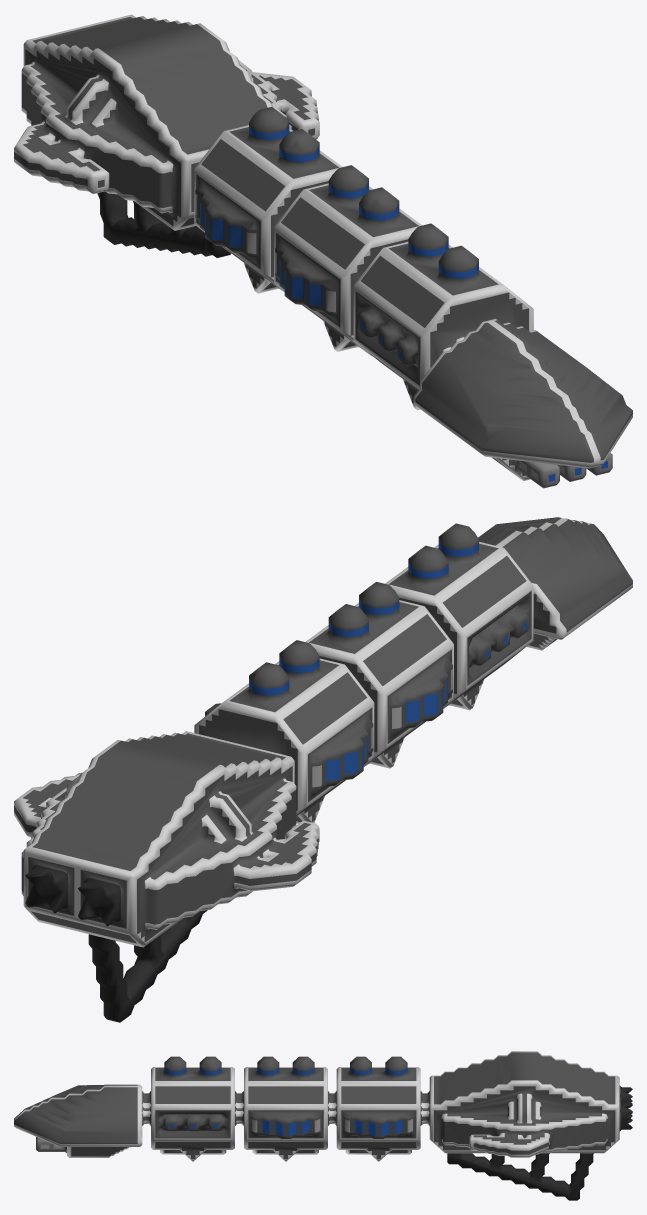
Rendered from diadochi-4-scylla-class.obj.
The picture shows the model from 3 angles, top to bottom: view 1: azimuth 30°, elevation 25°; view 2: azimuth 150°, elevation 25°; view 3: azimuth 270°, elevation 25°; orthographic projection. The views are drawn at different scales.
Size of the model in its own units: 43 by 35 by 140.
Materials: 1 (1 with a texture image).
